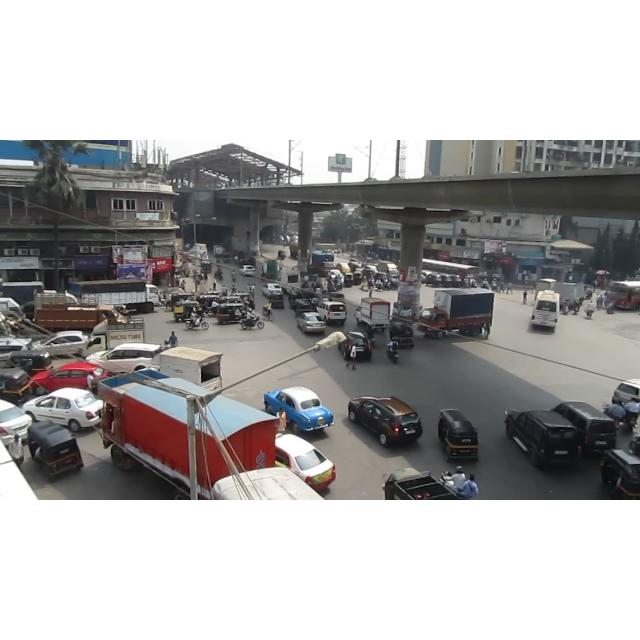auto: (25, 417, 87, 480), (437, 407, 481, 468), (599, 446, 640, 500), (171, 300, 206, 324), (217, 302, 255, 324), (389, 321, 416, 349), (267, 291, 285, 313), (426, 273, 445, 291), (343, 271, 357, 289), (353, 271, 365, 291), (452, 273, 464, 291), (275, 251, 291, 261)
truck: (98, 370, 278, 498), (417, 289, 495, 339), (33, 294, 127, 332), (155, 346, 223, 391), (70, 279, 160, 313), (383, 468, 459, 500), (85, 318, 145, 356), (353, 297, 391, 331), (0, 281, 44, 305), (552, 282, 585, 306), (308, 250, 335, 276), (279, 268, 301, 294), (262, 259, 281, 281), (377, 260, 399, 276), (213, 241, 225, 257), (289, 244, 299, 260)
